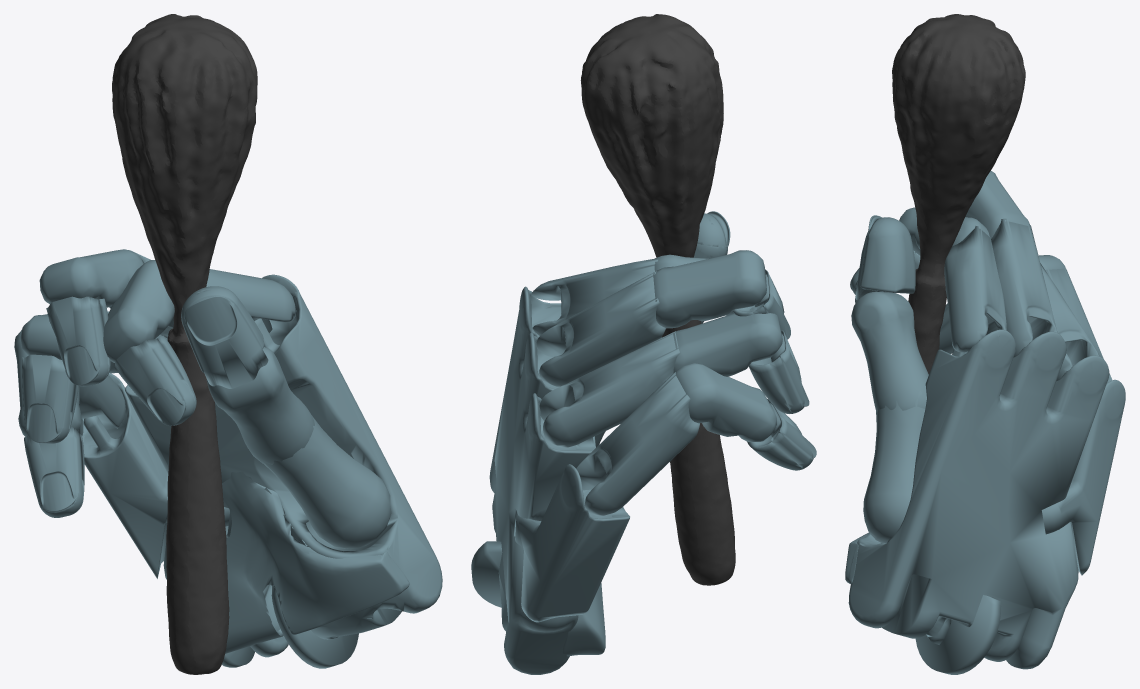
3 views of the same model, side by side, from view 1: azimuth 30°, elevation 25°; view 2: azimuth 150°, elevation 25°; view 3: azimuth 270°, elevation 25° (orthographic). The views are drawn at different scales.
Parts seen in each view (by area): view 1: world; view 2: world; view 3: world.
Boxes of the visible parts, x1,y1,x2,y2 form: world: (14,14,442,674); world: (471,14,816,674); world: (845,14,1125,674).
Size of the model in its own units: 0.1318 by 0.232 by 0.0972.
Materials: 1 (1 with a texture image).
